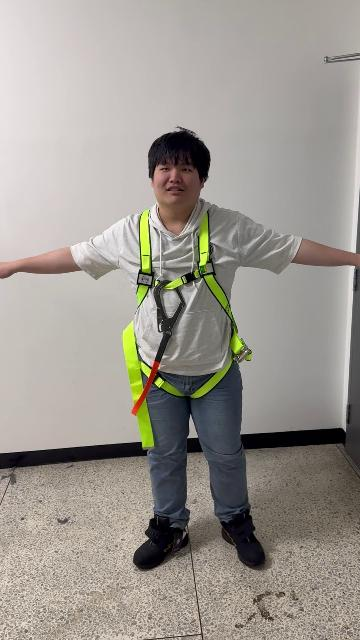helmet_not_worn: (148, 129, 212, 194)
shoe_worn: (133, 515, 189, 569), (219, 511, 264, 567)
vest_worn: (117, 208, 251, 442)
